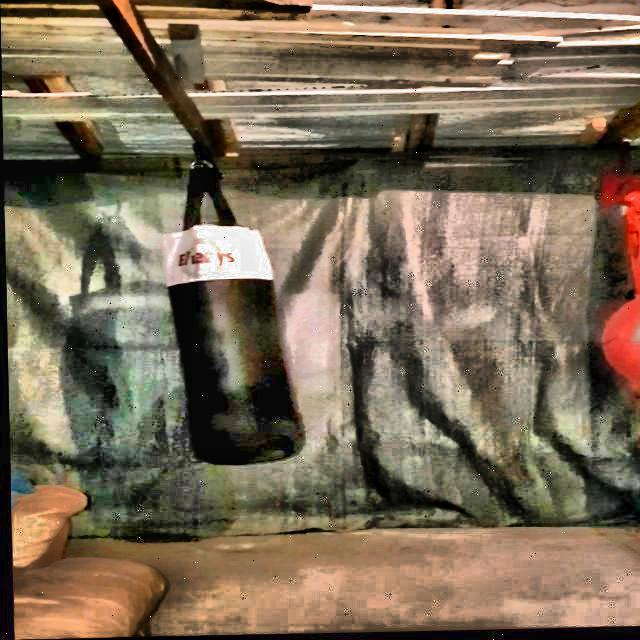boxing-bag: (162, 142, 308, 474)
